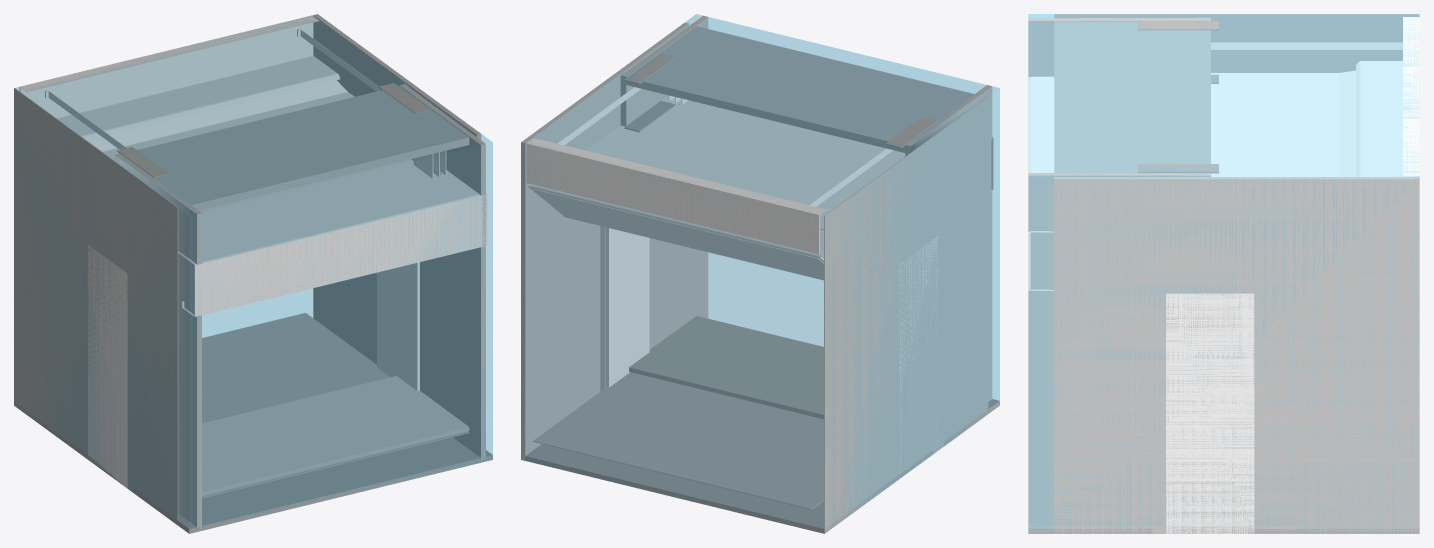
3 renders of one model, left to right at view 1: azimuth 30°, elevation 25°; view 2: azimuth 150°, elevation 25°; view 3: azimuth 270°, elevation 25°, orthographic. The views are drawn at different scales.
Size of the model in its own units: 65535 by 65535 by 65535.
